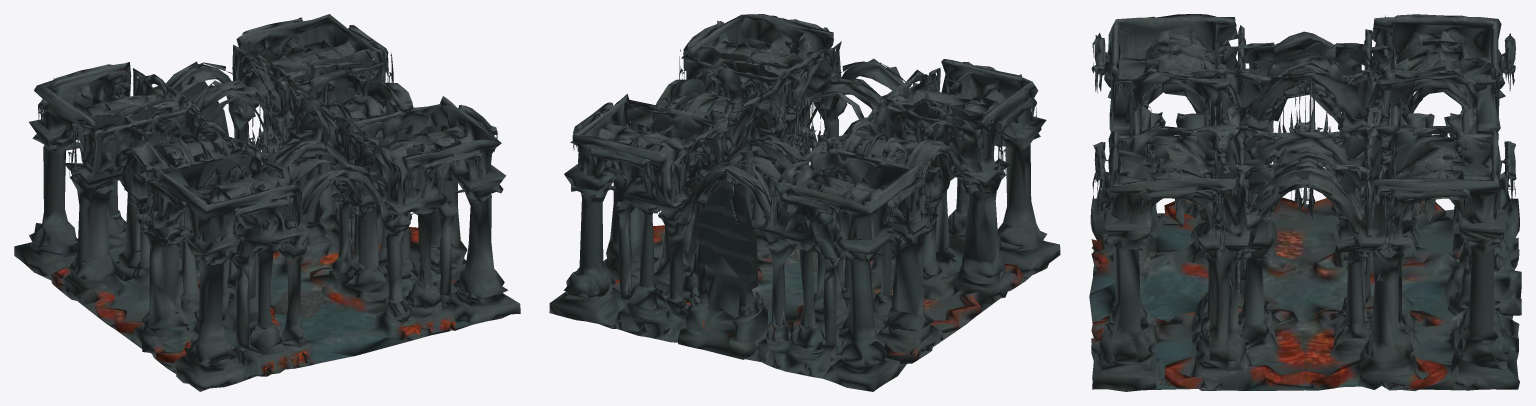
File: galaxy-hall.glb
The picture shows the model from 3 angles, left to right: view 1: azimuth 30°, elevation 25°; view 2: azimuth 150°, elevation 25°; view 3: azimuth 270°, elevation 25°; orthographic projection. The views are drawn at different scales.
Size of the model in its own units: 1.9 by 1.05 by 1.89.
Materials: 1 (1 with a texture image).
